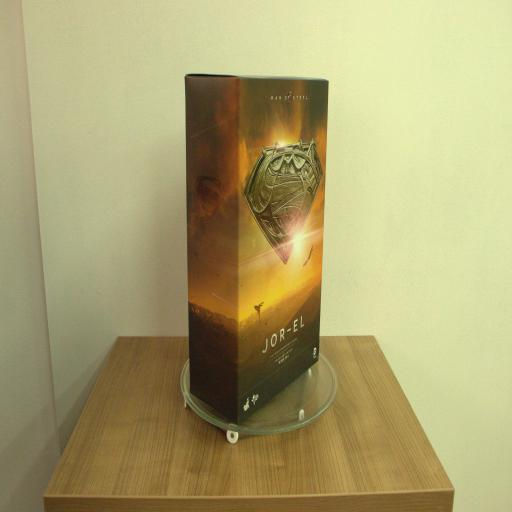superman: (185, 71, 331, 428)
